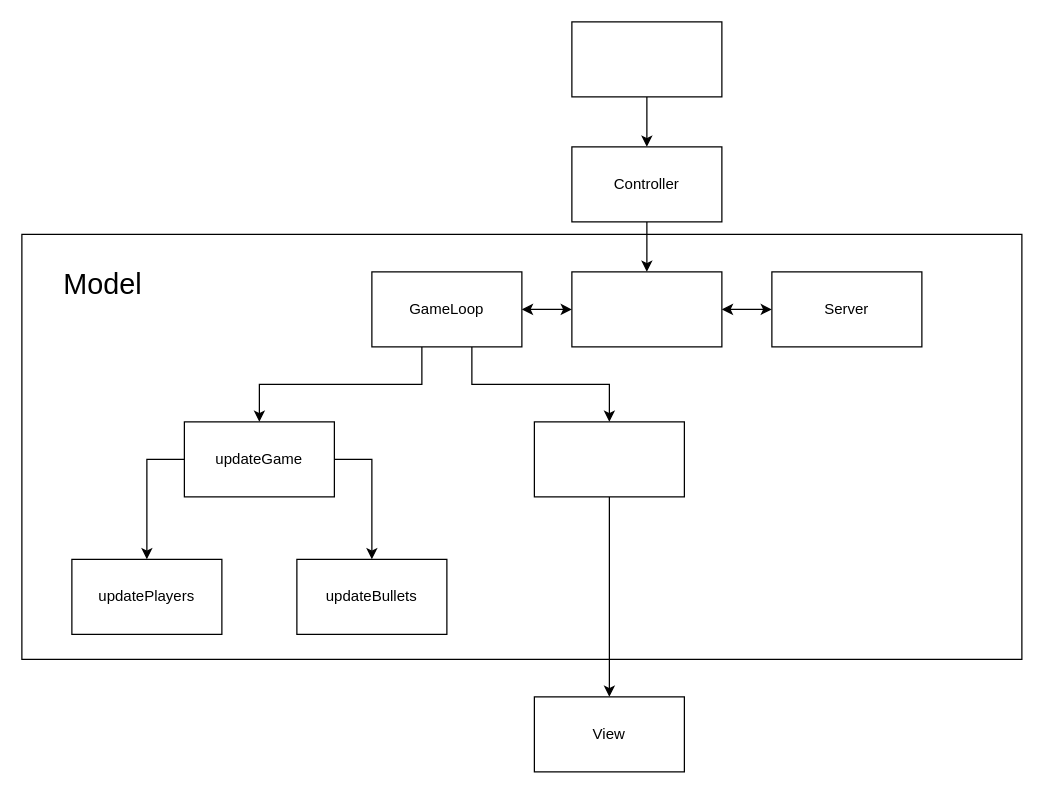
This 1044x794 diagram has some shape labels left out. Each missing label, with the centre of its shape:
canvas: (x=646, y=59)
drawGame: (x=608, y=459)
State: (x=646, y=309)
